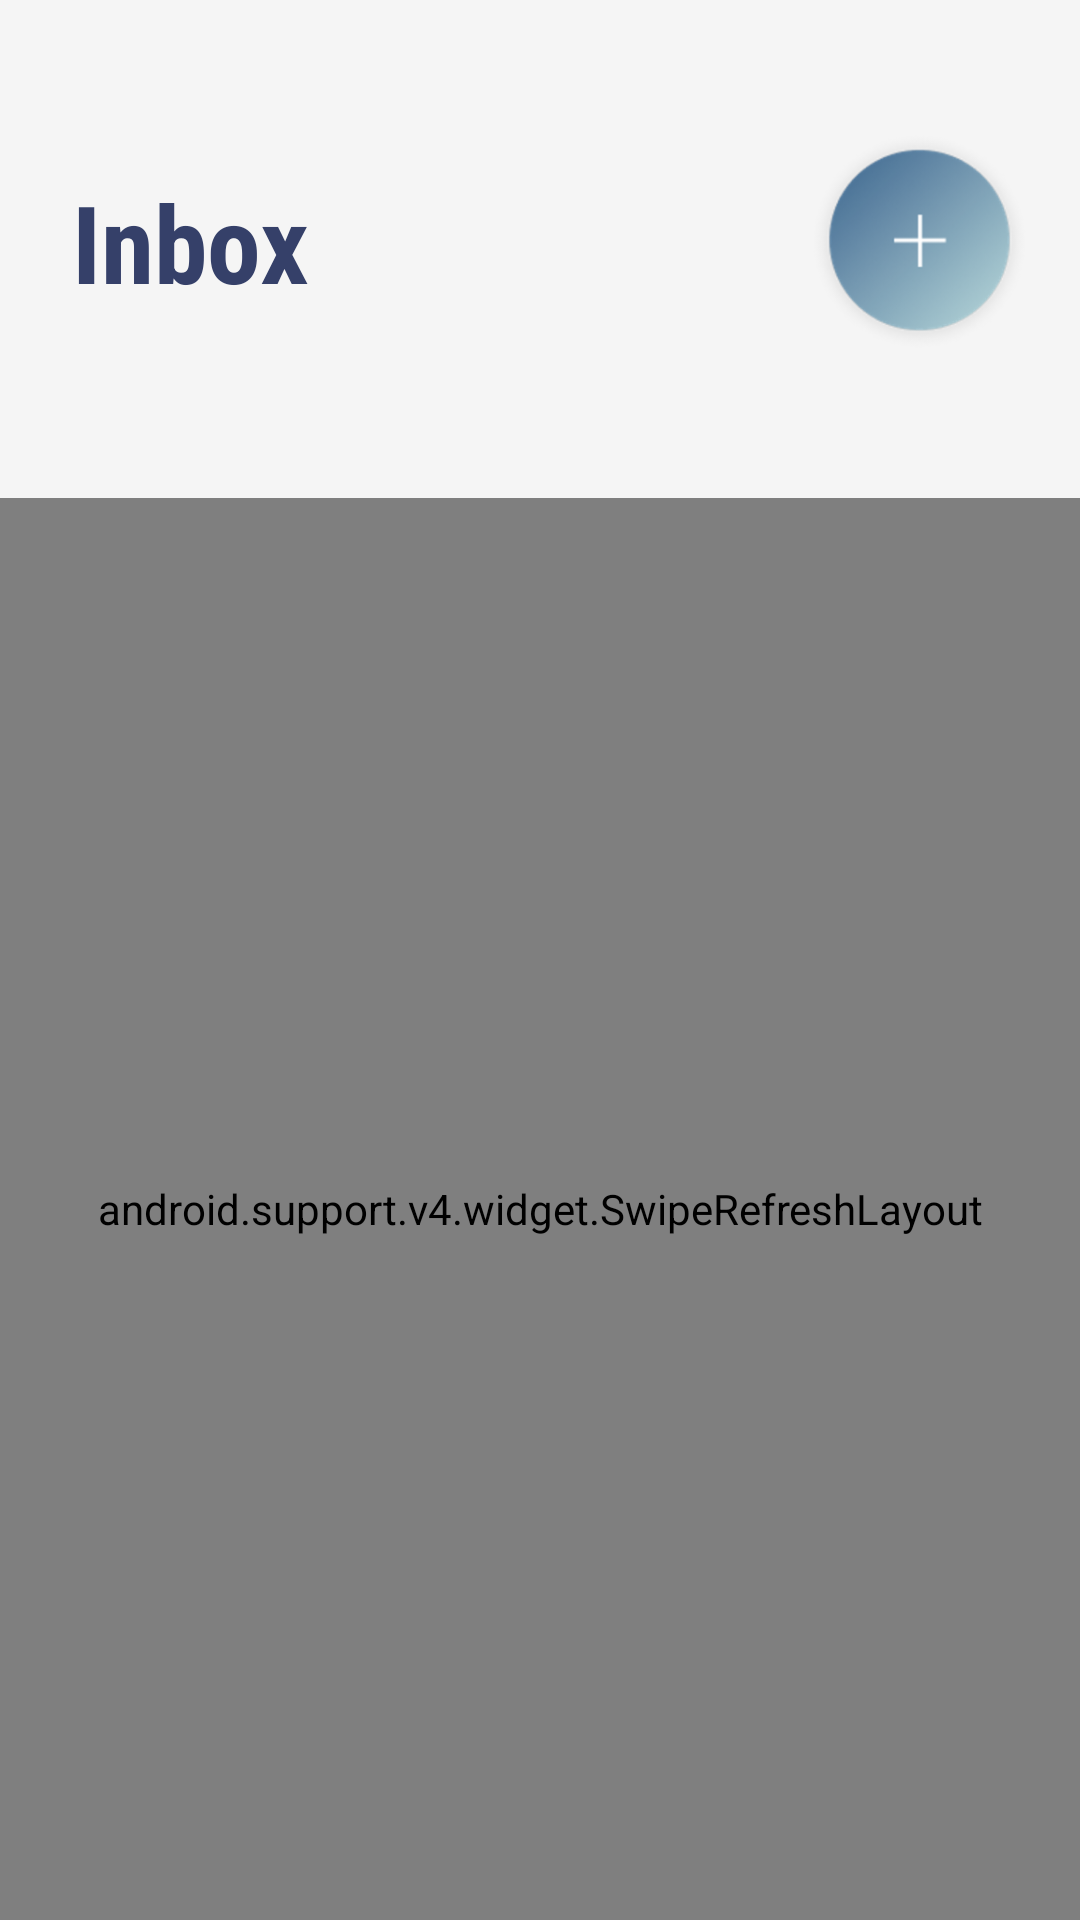

Icon bounding boxes for this 1080x1920 phone screenshot, format (x1, y1, x2, y2):
stories add: (829, 149, 1010, 331)
